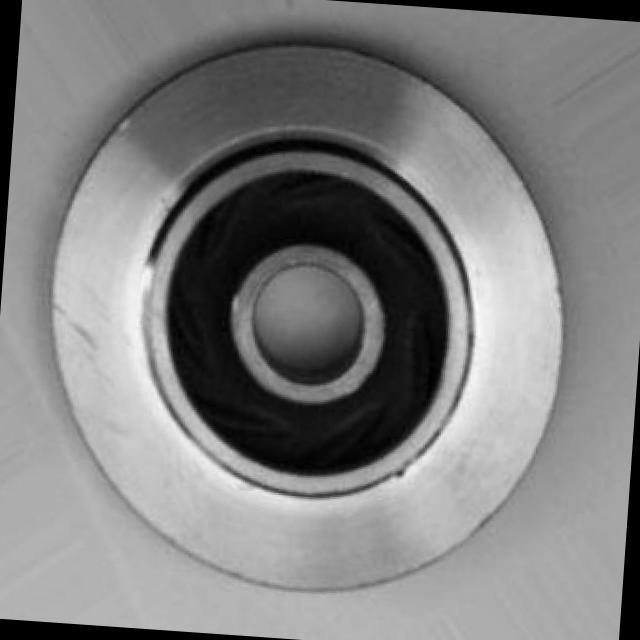Defect: (382, 458, 421, 492)
